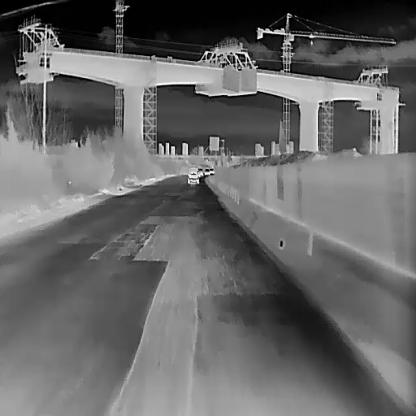car: (188, 166, 198, 184), (198, 167, 202, 176), (204, 168, 209, 174), (209, 168, 213, 173)
